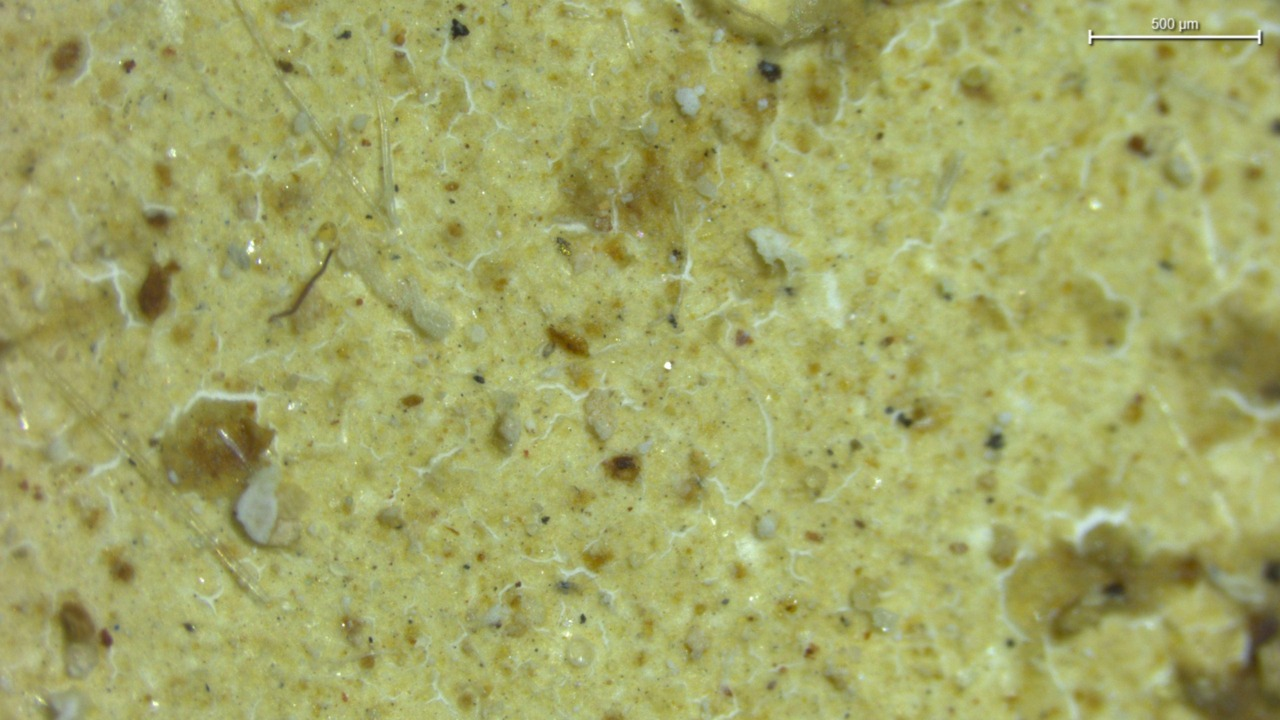microplastic_fragment: (235, 465, 278, 544), (748, 227, 808, 272), (675, 87, 701, 117)
